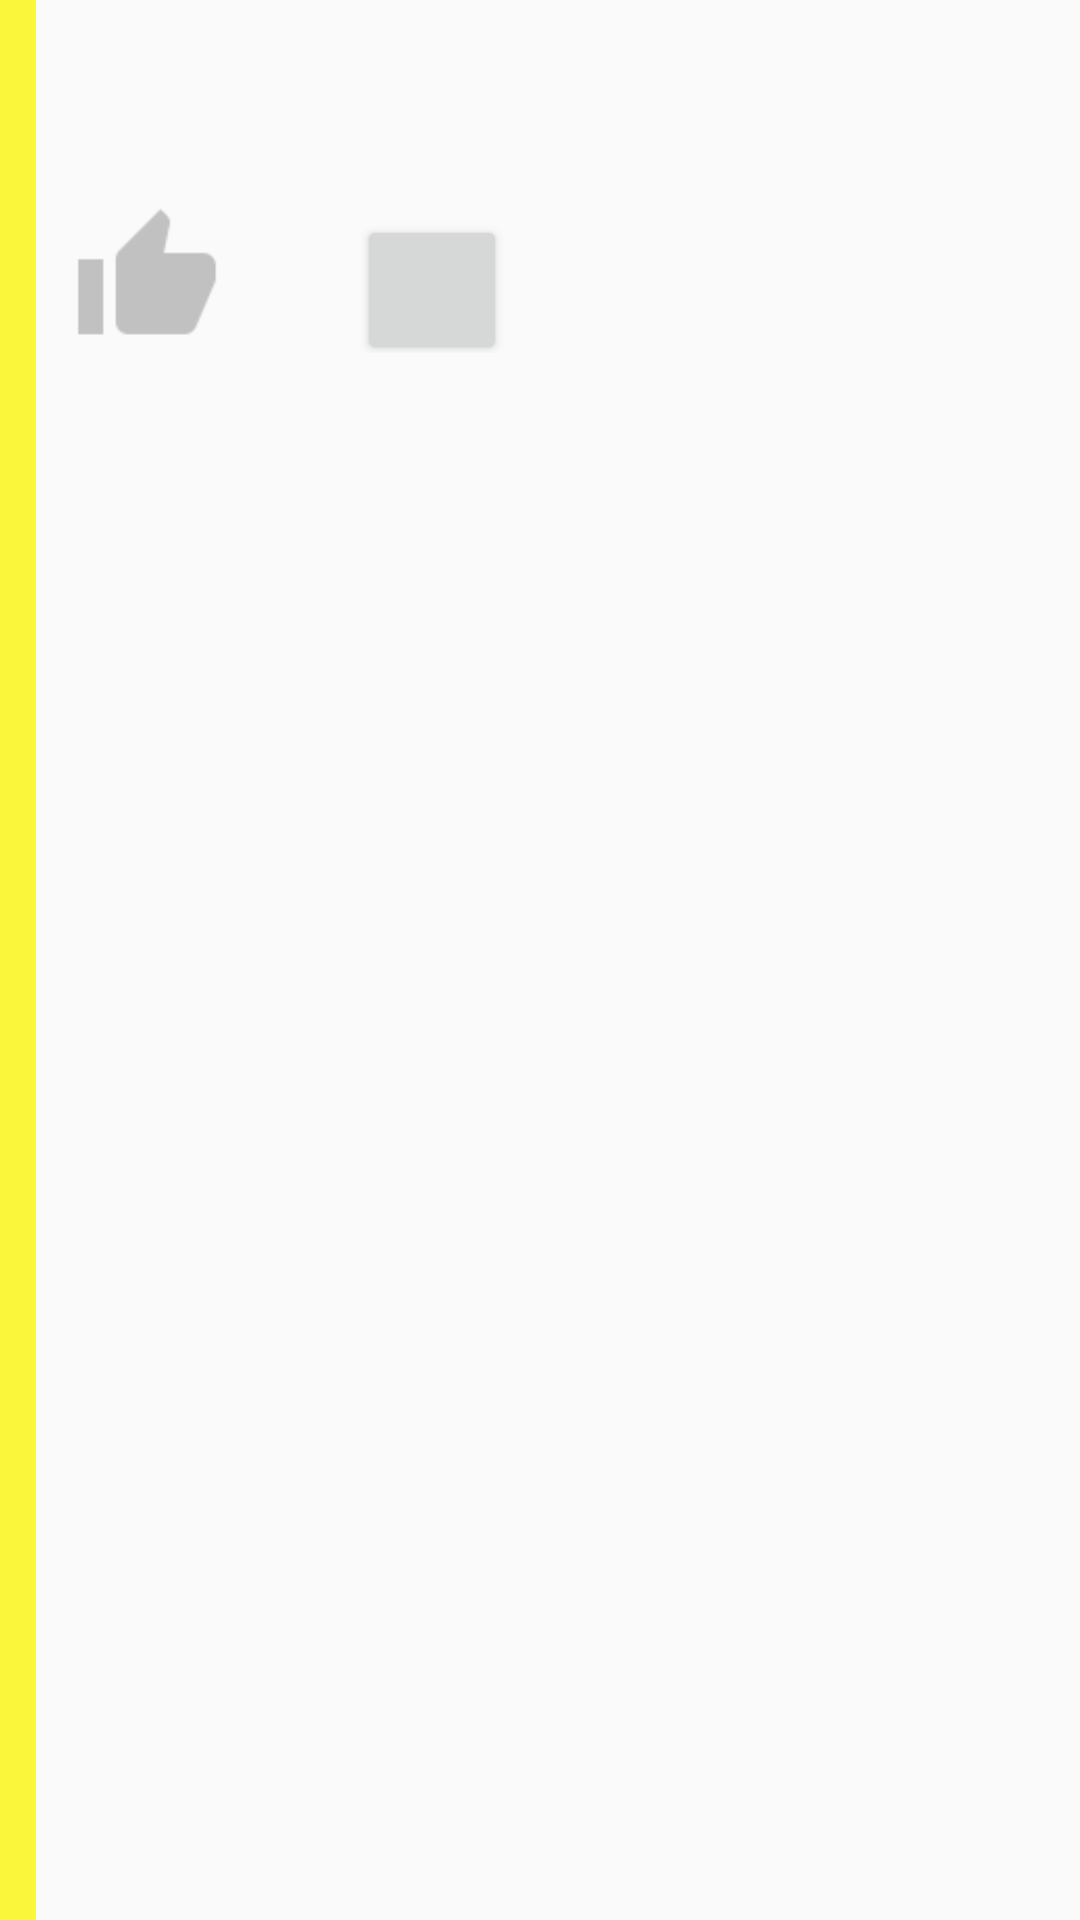

Icons on this 1080*1920 Android screen, each with the point to tap as point (x, y):
thumb up: point (147, 271)
